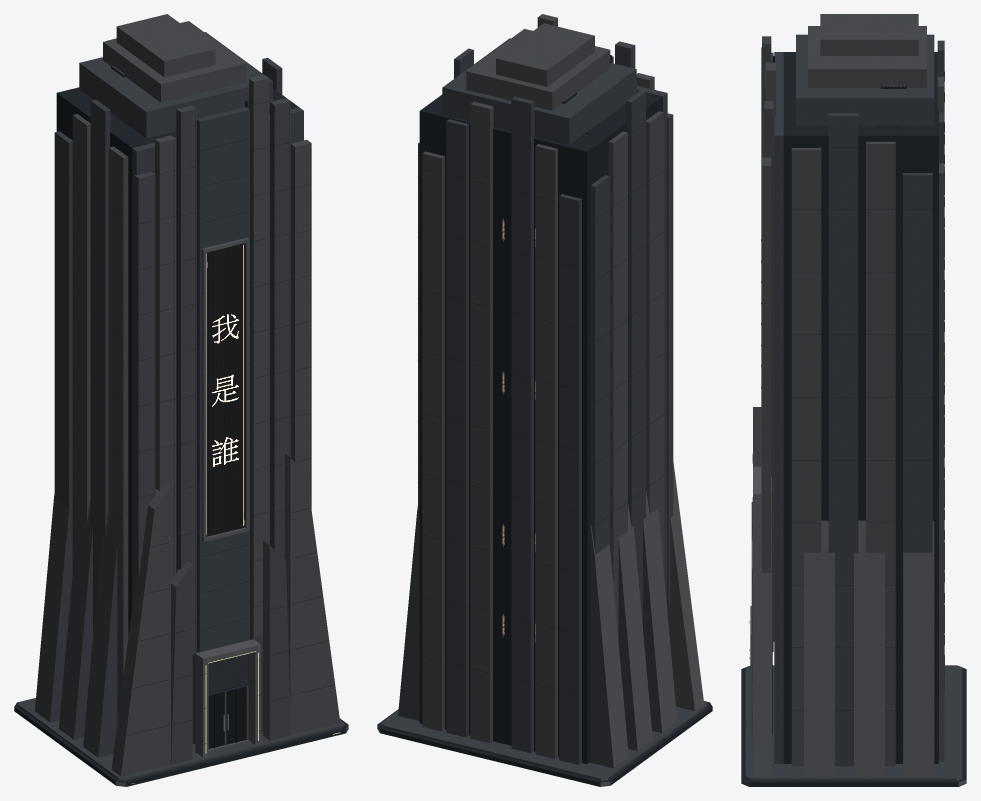
File: about.glb
The picture shows the model from 3 angles, left to right: view 1: azimuth 30°, elevation 25°; view 2: azimuth 150°, elevation 25°; view 3: azimuth 270°, elevation 25°; orthographic projection. The views are drawn at different scales.
Parts seen in each view (by area): view 1: monolith_core_and_crown, angled_structural_buttresses, vertical_led, foundation_and_entry; view 2: monolith_core_and_crown, angled_structural_buttresses, foundation_and_entry; view 3: monolith_core_and_crown, angled_structural_buttresses, foundation_and_entry.
Boxes of the visible parts, bbox=[...] form: monolith_core_and_crown: bbox=[54, 14, 311, 744]; angled_structural_buttresses: bbox=[35, 454, 340, 776]; vertical_led: bbox=[202, 237, 249, 541]; foundation_and_entry: bbox=[14, 639, 348, 786]; monolith_core_and_crown: bbox=[418, 14, 673, 764]; angled_structural_buttresses: bbox=[398, 462, 704, 768]; foundation_and_entry: bbox=[377, 701, 712, 786]; monolith_core_and_crown: bbox=[761, 14, 944, 766]; angled_structural_buttresses: bbox=[751, 407, 934, 776]; foundation_and_entry: bbox=[741, 606, 966, 786].
Size of the model in its own units: 16 by 44.6 by 13.04.
4 materials, 3 textured.
